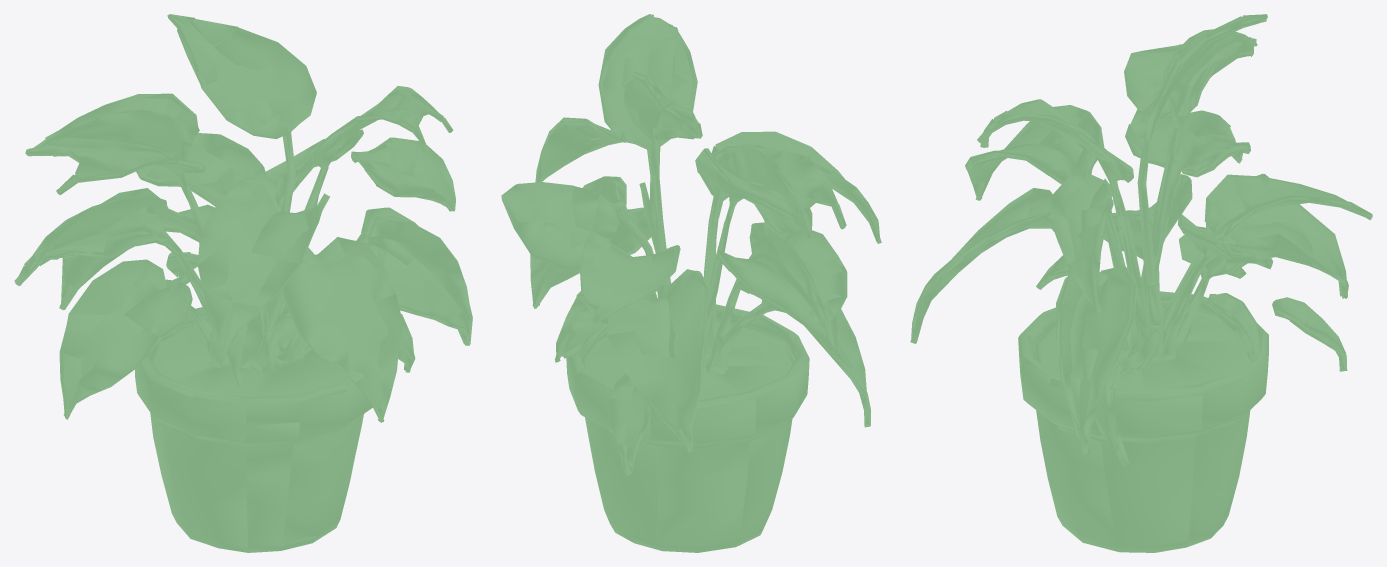
Rendered from prop_plante.glb.
3 renders of one model, left to right at view 1: azimuth 30°, elevation 25°; view 2: azimuth 150°, elevation 25°; view 3: azimuth 270°, elevation 25°, orthographic. The views are drawn at different scales.
Parts seen in each view (by area): view 1: MSH_plante; view 2: MSH_plante; view 3: MSH_plante.
Boxes of the visible parts, left/top/right/bottom form: MSH_plante: left=14, top=14, right=472, bottom=552; MSH_plante: left=501, top=14, right=881, bottom=552; MSH_plante: left=910, top=14, right=1372, bottom=552.
Bounding box in the file's own units: 2.22 × 2.62 × 2.22.
